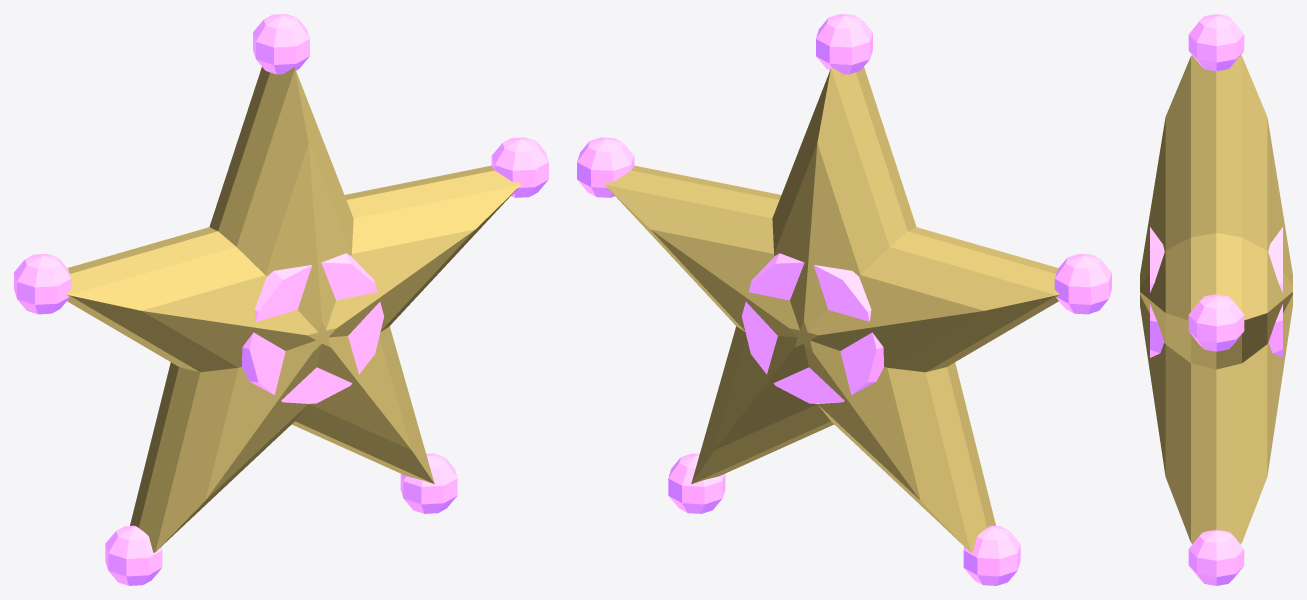
File: star.glb
3 renders of one model, left to right at view 1: azimuth 30°, elevation 25°; view 2: azimuth 150°, elevation 25°; view 3: azimuth 270°, elevation 25°, orthographic. The views are drawn at different scales.
Parts seen in each view (by area): view 1: 020-invincibility-star/body/gold, 020-invincibility-star/body/arcane; view 2: 020-invincibility-star/body/gold, 020-invincibility-star/body/arcane; view 3: 020-invincibility-star/body/gold, 020-invincibility-star/body/arcane.
Boxes of the visible parts, left/top/right/bottom form: 020-invincibility-star/body/gold: left=66, top=67, right=521, bottom=552; 020-invincibility-star/body/arcane: left=14, top=14, right=548, bottom=585; 020-invincibility-star/body/gold: left=604, top=67, right=1059, bottom=552; 020-invincibility-star/body/arcane: left=577, top=14, right=1111, bottom=585; 020-invincibility-star/body/gold: left=1140, top=55, right=1292, bottom=543; 020-invincibility-star/body/arcane: left=1150, top=14, right=1282, bottom=585.
Bounding box in the file's own units: 0.4318 × 0.4149 × 0.115.
